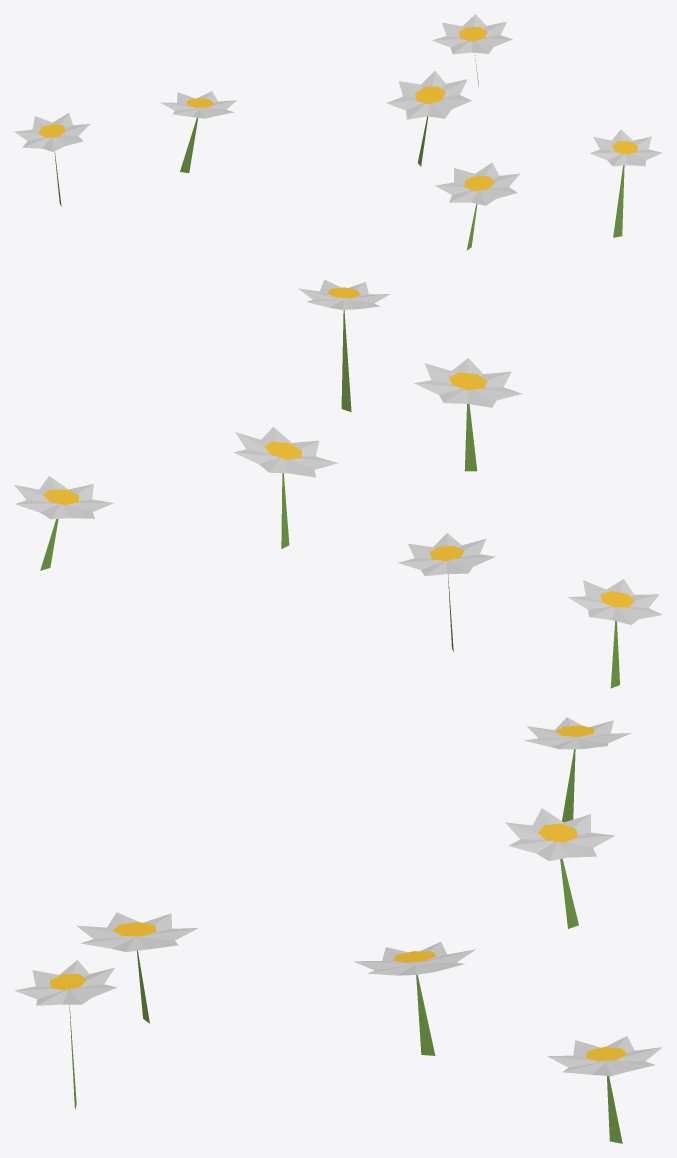
The model's file is daisies.glb.
3 views of the same model, one above another, from view 1: azimuth 30°, elevation 25°; view 2: azimuth 150°, elevation 25°; view 3: azimuth 270°, elevation 25° (orthographic). The views are drawn at different scales.
Visible parts, largest first — view 1: daisies; view 2: daisies; view 3: daisies.
Boxes of the visible parts, x1,y1,x2,y2 form: daisies: (14,14,662,250); daisies: (14,279,662,688); daisies: (14,717,662,1143).
Bounding box in the file's own units: 0.5784 × 0.1024 × 0.4547.
